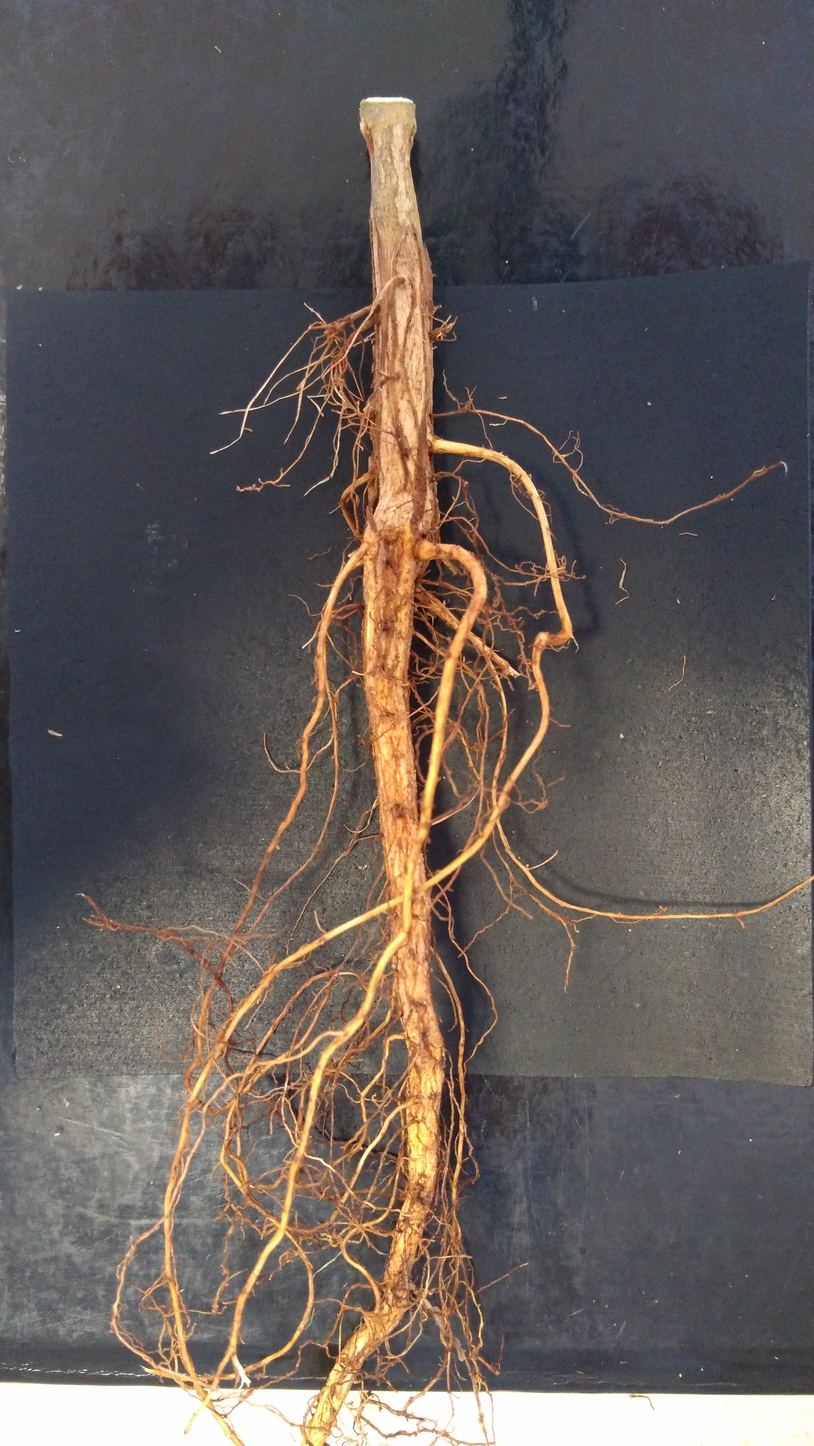nodule: (364, 392, 382, 421), (380, 523, 401, 543), (430, 327, 448, 341), (395, 1288, 408, 1306), (409, 1181, 422, 1198), (262, 963, 277, 977), (425, 608, 438, 619), (428, 1306, 442, 1315), (390, 955, 398, 970), (406, 1281, 415, 1291), (254, 1372, 264, 1381), (462, 481, 469, 488), (546, 561, 550, 571), (495, 1370, 500, 1376), (442, 600, 446, 607), (429, 967, 433, 974), (428, 1291, 433, 1296), (446, 637, 451, 641), (349, 597, 353, 601)
